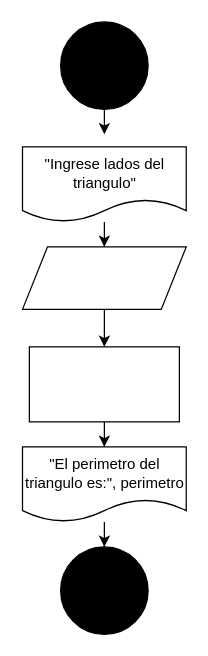
This 208x656 diagram has some shape labels left out. The shapes that lost their labels are listed below. From the top down, each one's box as (x1, y1, x2, y2) in pixels, then its label:
(21, 246, 186, 309): lado1,lado2,lado3
(28, 346, 179, 422): perimetro<-lado1+lado2+lado3
